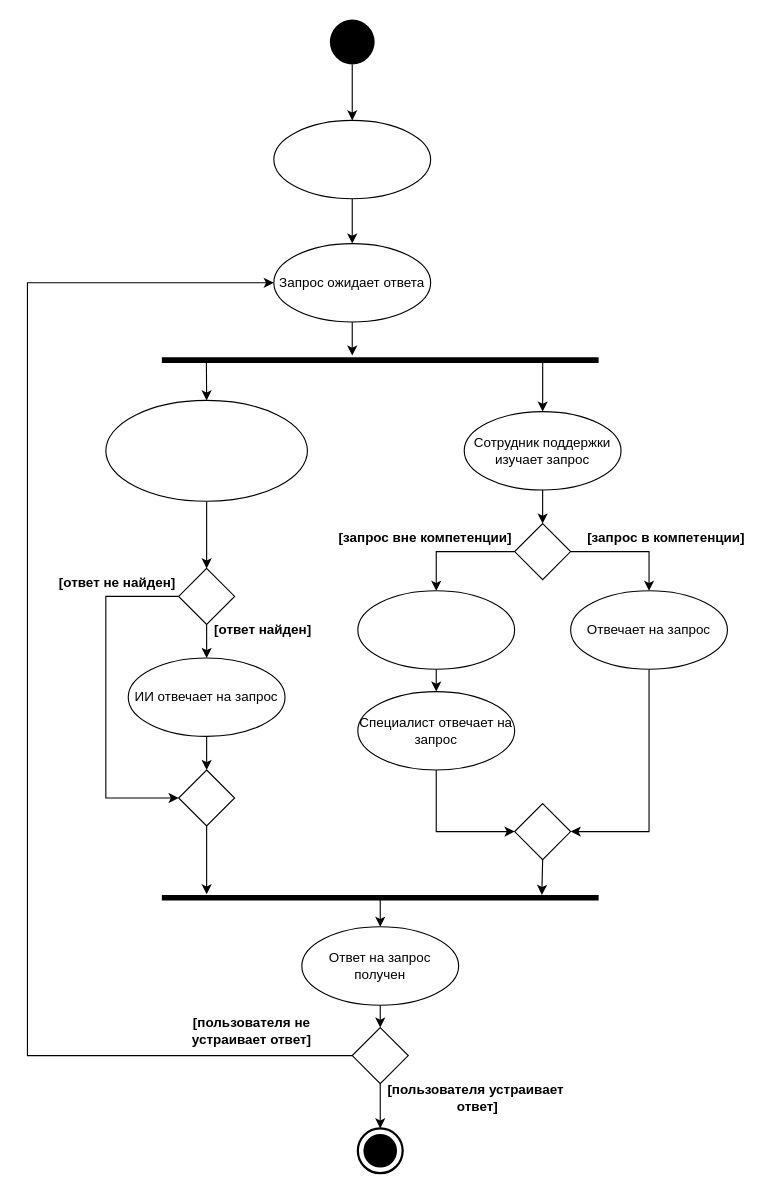
Some shapes in this 775 by 1193 pixel diagram are drawn without their labels. Here are the shapes that lost their labels. From the top down, the centre of each, then its label:
[352,159]: Создание запроса в поддержку
[206,450]: ИИ ищет уже готовый ответ по ключевым словам
[436,629]: Меняет состояние запроса на "сложный"
